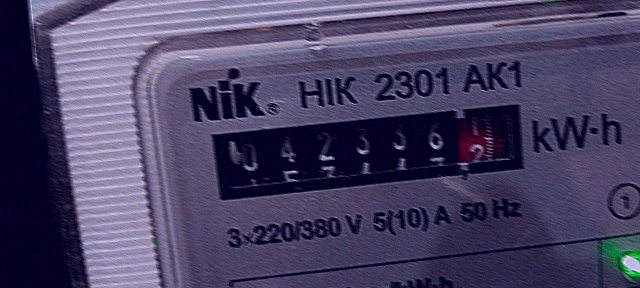0: (237, 139, 259, 174)
1: (465, 111, 480, 138)
2: (312, 127, 337, 163), (465, 142, 484, 164)
3: (349, 123, 370, 157), (388, 119, 408, 153)
4: (276, 131, 296, 165)
6: (423, 118, 446, 153)
screen: (197, 89, 539, 212)
